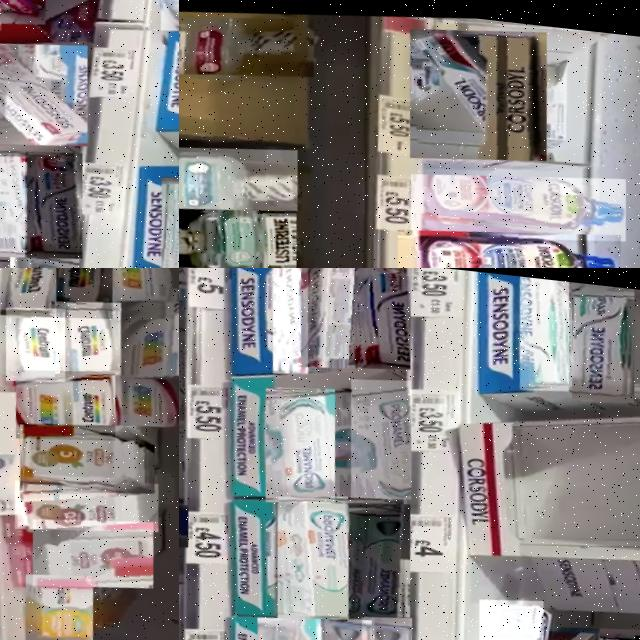Mouthwash: (179, 3, 317, 88), (179, 133, 304, 221), (179, 193, 304, 268)
Other: (408, 149, 633, 248), (395, 204, 628, 268), (19, 405, 164, 495), (34, 501, 164, 588), (16, 460, 167, 533), (14, 354, 124, 439), (52, 288, 129, 371), (28, 560, 105, 638), (116, 282, 179, 377), (3, 295, 73, 379), (0, 268, 70, 314), (51, 268, 119, 314), (30, 626, 126, 640)
Toothpaste: (400, 11, 557, 163), (272, 483, 362, 620), (0, 23, 97, 148), (259, 376, 346, 503), (344, 491, 424, 624), (344, 367, 422, 496), (561, 270, 640, 393), (19, 138, 94, 255), (292, 268, 378, 370), (510, 268, 577, 385), (346, 268, 418, 365), (263, 268, 317, 371), (475, 583, 558, 640), (0, 143, 36, 254), (254, 606, 336, 640), (359, 604, 427, 640), (313, 607, 386, 640), (157, 160, 179, 268)
